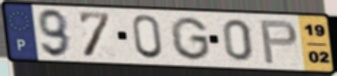0: (220, 17, 258, 64), (131, 13, 165, 60)
7: (78, 11, 114, 59)
9: (37, 7, 74, 60)
G: (168, 16, 213, 63)
P: (258, 19, 301, 66)
